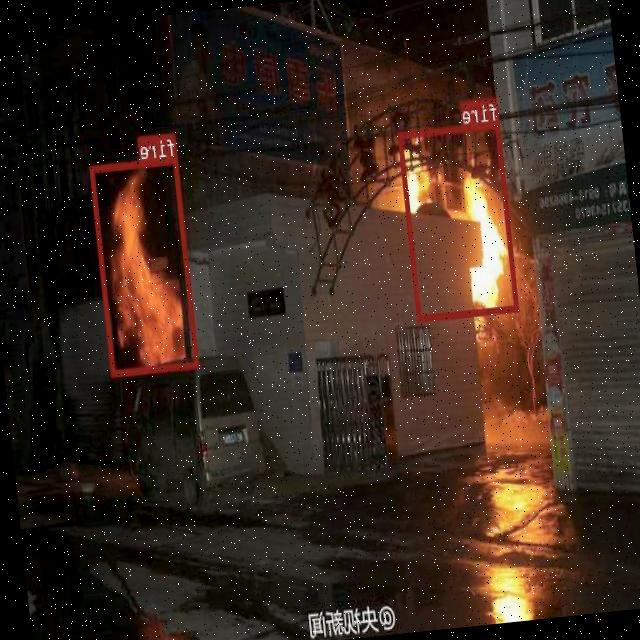fire: (398, 120, 520, 320), (90, 156, 200, 374)
